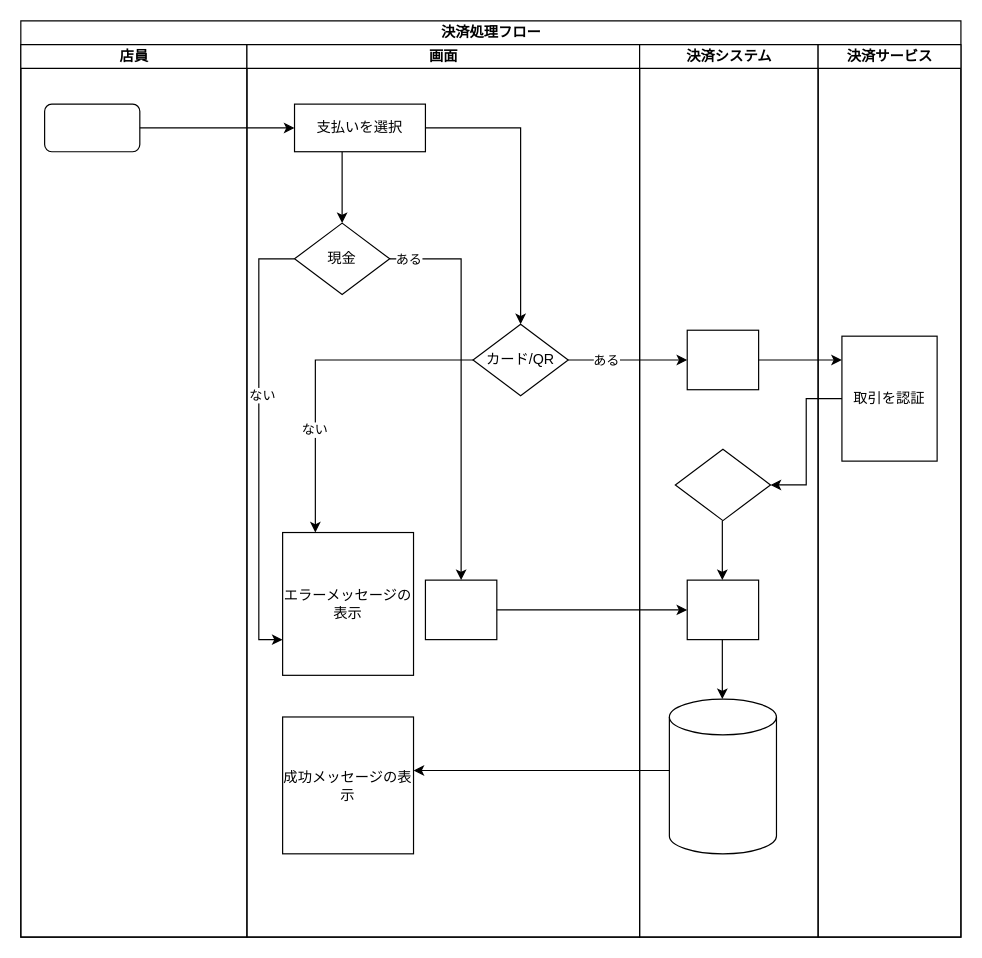
This 982x958 diagram has some shape labels left out. The shapes that lost their labels are listed below. From the top down, each one's centre as x and y in pixels, then its label:
(x=91, y=127): 支払いのボタンを押下
(x=722, y=359): 情報の作成
(x=722, y=484): 結果受信
(x=460, y=609): 支払金額を表示
(x=722, y=609): 情報の更新
(x=722, y=776): DBを保存
